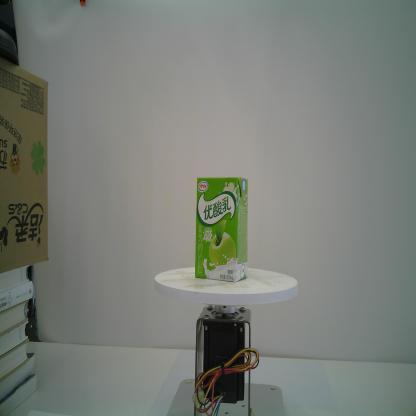Milk: (195, 177, 248, 283)
